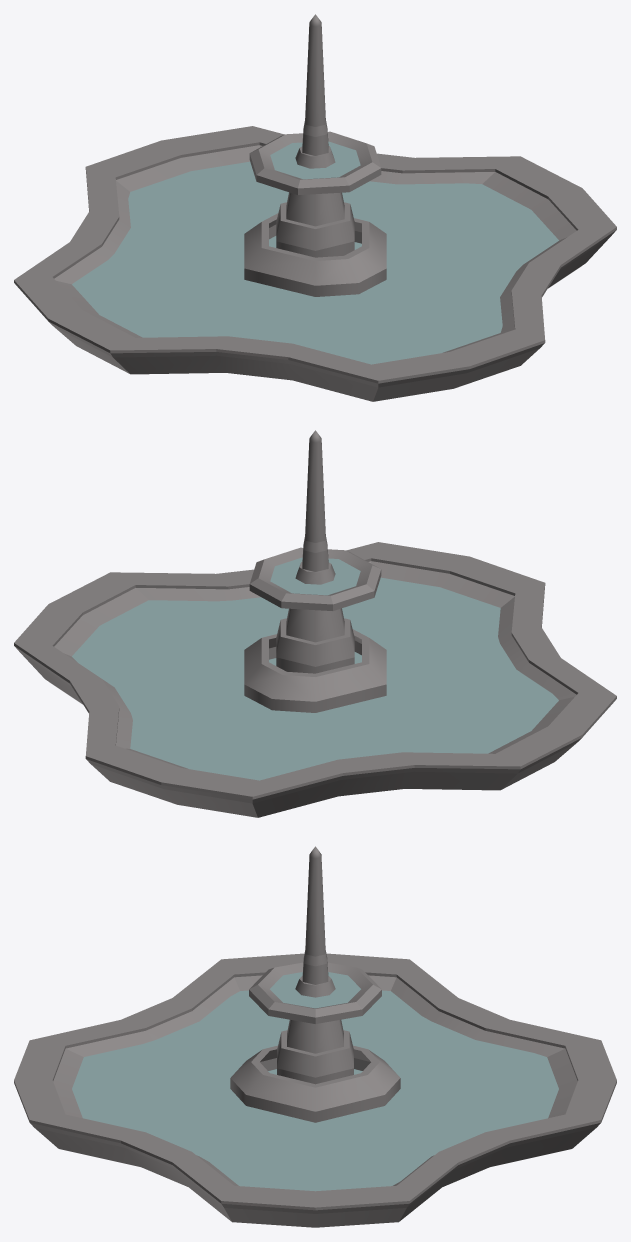
File: mesh_Fountian.fbx
3 renders of one model, top to bottom at view 1: azimuth 30°, elevation 25°; view 2: azimuth 150°, elevation 25°; view 3: azimuth 270°, elevation 25°, orthographic. The views are drawn at different scales.
Visible parts, largest first — view 1: founitan; view 2: founitan; view 3: founitan.
Part boxes in pixels (x1=…): founitan: x1=14, y1=14, x2=616, y2=401; founitan: x1=14, y1=430, x2=616, y2=817; founitan: x1=14, y1=846, x2=616, y2=1227.
Size of the model in its own units: 1364 by 667 by 1364.
2 materials, 1 textured.
